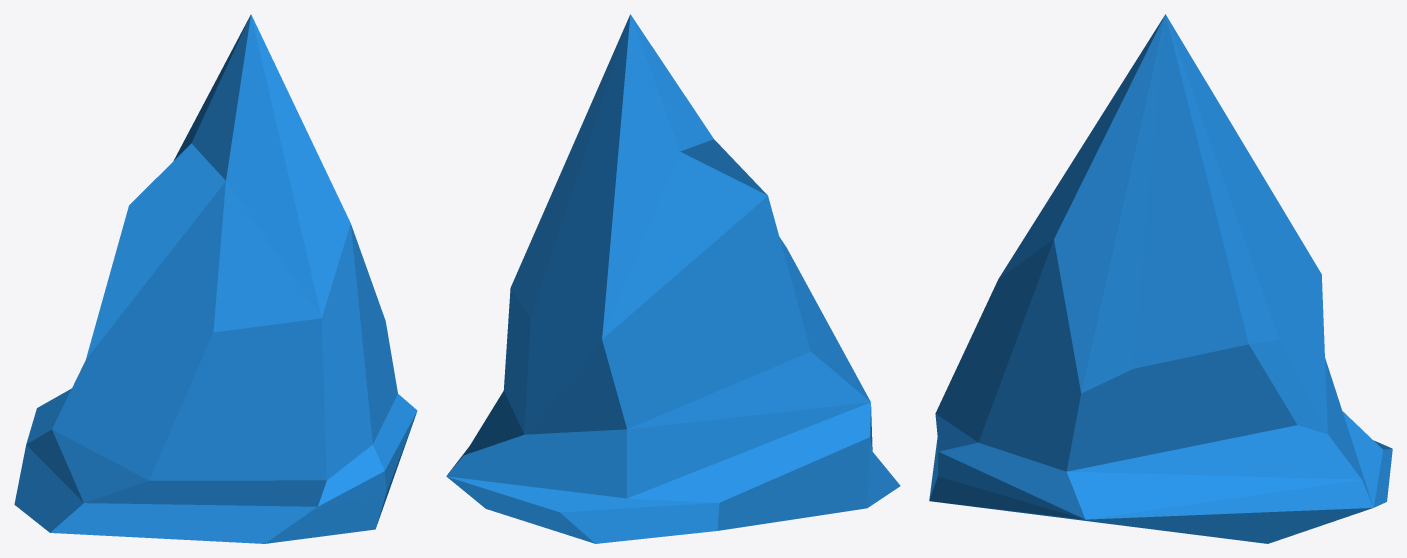
Rendered from Mesh_Montagne2.fbx.
3 views of the same model, side by side, from view 1: azimuth 30°, elevation 25°; view 2: azimuth 150°, elevation 25°; view 3: azimuth 270°, elevation 25° (orthographic). The views are drawn at different scales.
Visible parts, largest first — view 1: montagne.002; view 2: montagne.002; view 3: montagne.002.
Part boxes in pixels (<box>): montagne.002: <box>14,14,417,543</box>; montagne.002: <box>446,14,900,543</box>; montagne.002: <box>929,14,1392,543</box>.
Bounding box in the file's own units: 12606 × 14484 × 12713.
